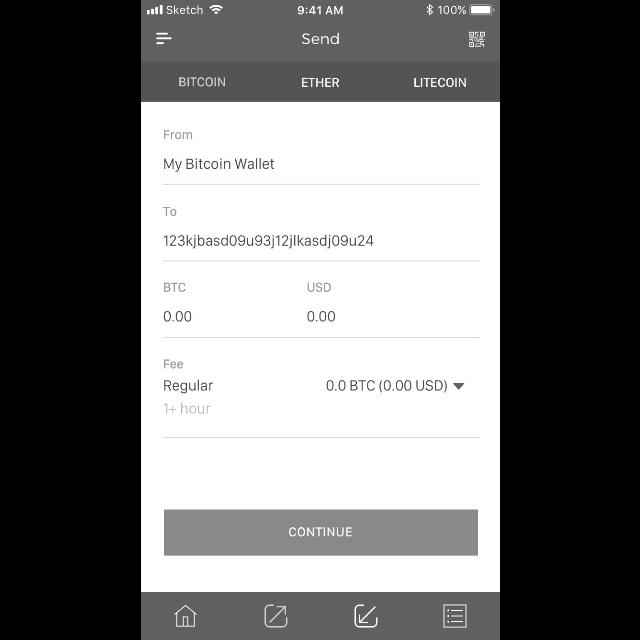icon: (262, 604, 288, 628), (352, 604, 378, 628), (443, 604, 467, 628), (173, 604, 195, 628), (468, 30, 486, 48), (154, 32, 172, 46)
multitab: (141, 62, 499, 102)
spinner: (325, 378, 465, 394)
text: (162, 234, 372, 248), (162, 157, 274, 170), (162, 380, 214, 394), (413, 76, 467, 88), (301, 30, 339, 46), (162, 402, 210, 414), (178, 76, 226, 88), (301, 75, 339, 88), (162, 129, 192, 141), (306, 310, 334, 322), (162, 310, 190, 322), (161, 358, 183, 370), (306, 282, 330, 292), (162, 282, 186, 292), (161, 206, 177, 218)
textbutton: (164, 509, 478, 556)
toolbar: (141, 22, 499, 62)
uppertaskbar: (140, 1, 500, 17)
